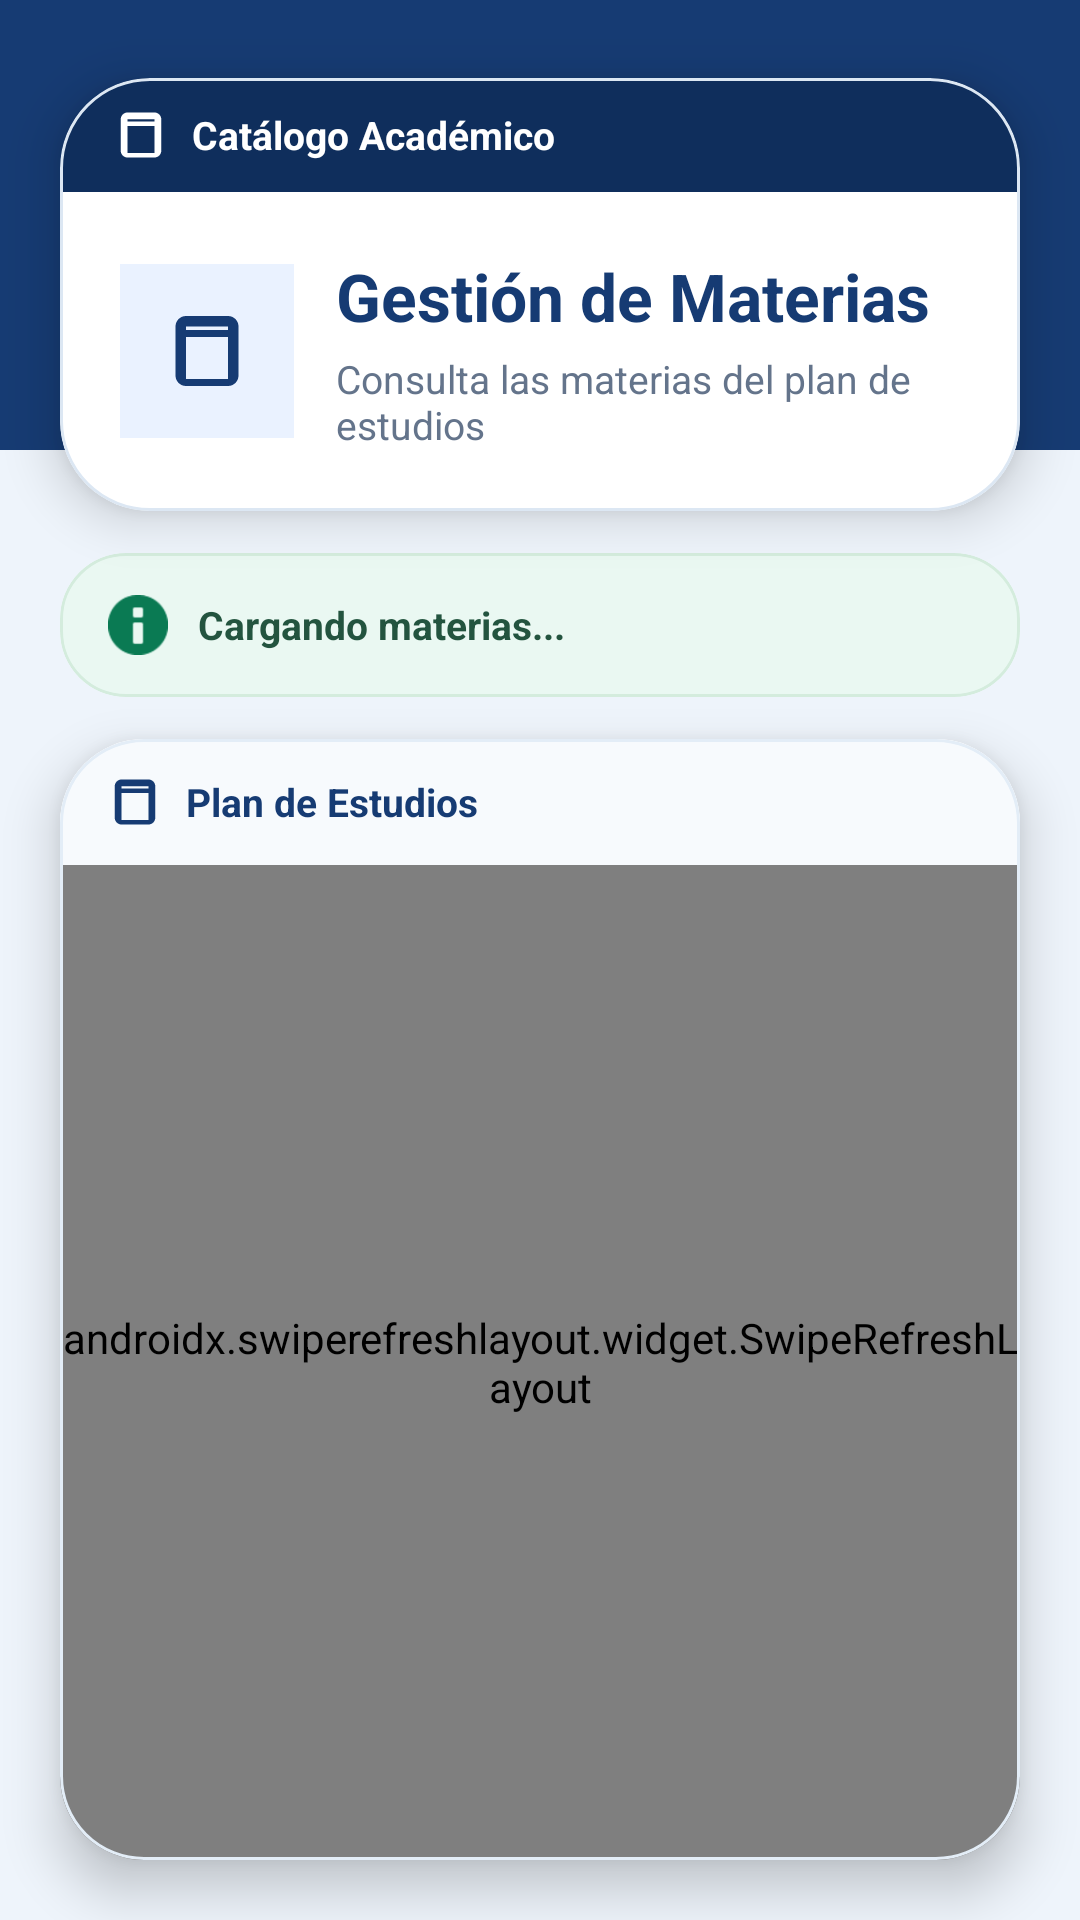

Icons on this 1080*1920 Android screen, each with its box as (x1, y1, x2, y2):
info: (108, 595, 168, 655)
